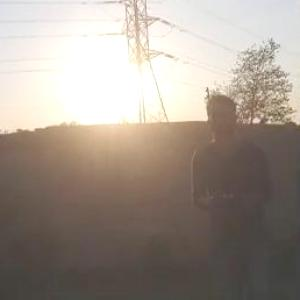follow: (185, 91, 277, 299)
